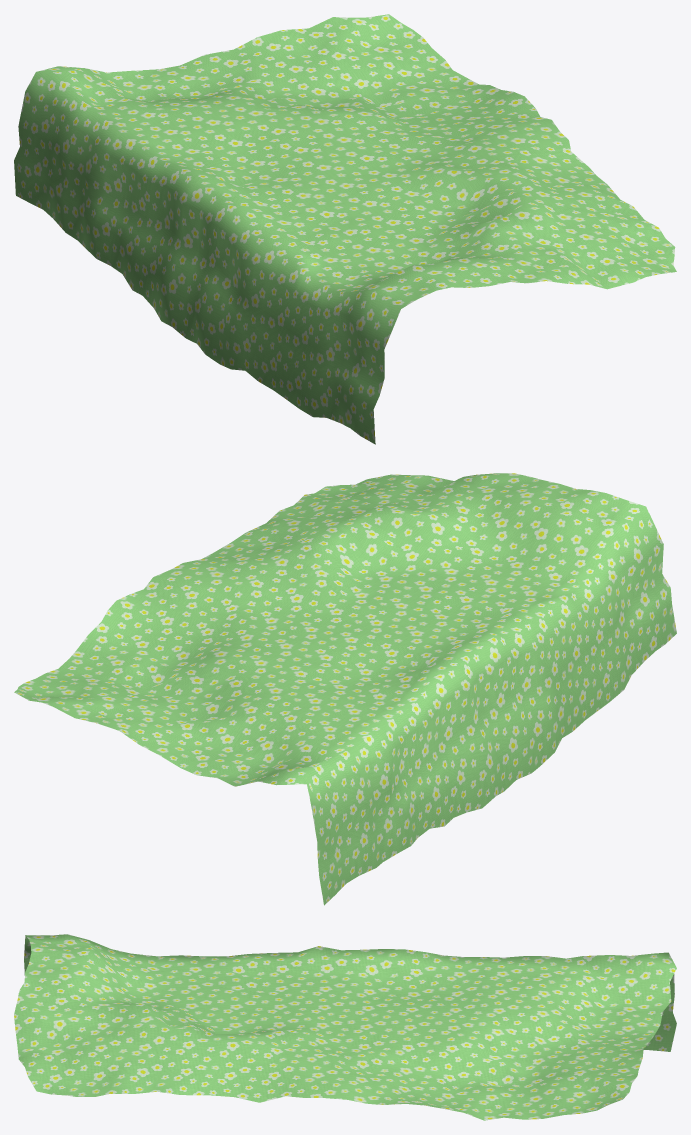
The model's file is duvet_hills.fbx.
3 renders of one model, top to bottom at view 1: azimuth 30°, elevation 25°; view 2: azimuth 150°, elevation 25°; view 3: azimuth 270°, elevation 25°, orthographic. The views are drawn at different scales.
Parts seen in each view (by area): view 1: Plane; view 2: Plane; view 3: Plane.
Part boxes in pixels (x1=…): Plane: x1=14, y1=14, x2=676, y2=444; Plane: x1=14, y1=473, x2=676, y2=905; Plane: x1=14, y1=934, x2=676, y2=1120.
Bounding box in the file's own units: 14478 × 5957 × 24730.
Materials: 1 (1 with a texture image).
